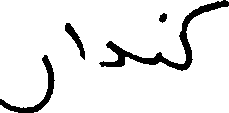ا: (64, 20, 82, 59)
د: (99, 38, 123, 66)
ر: (0, 52, 54, 111)
ك: (178, 0, 227, 71)
ن: (152, 11, 166, 65)
